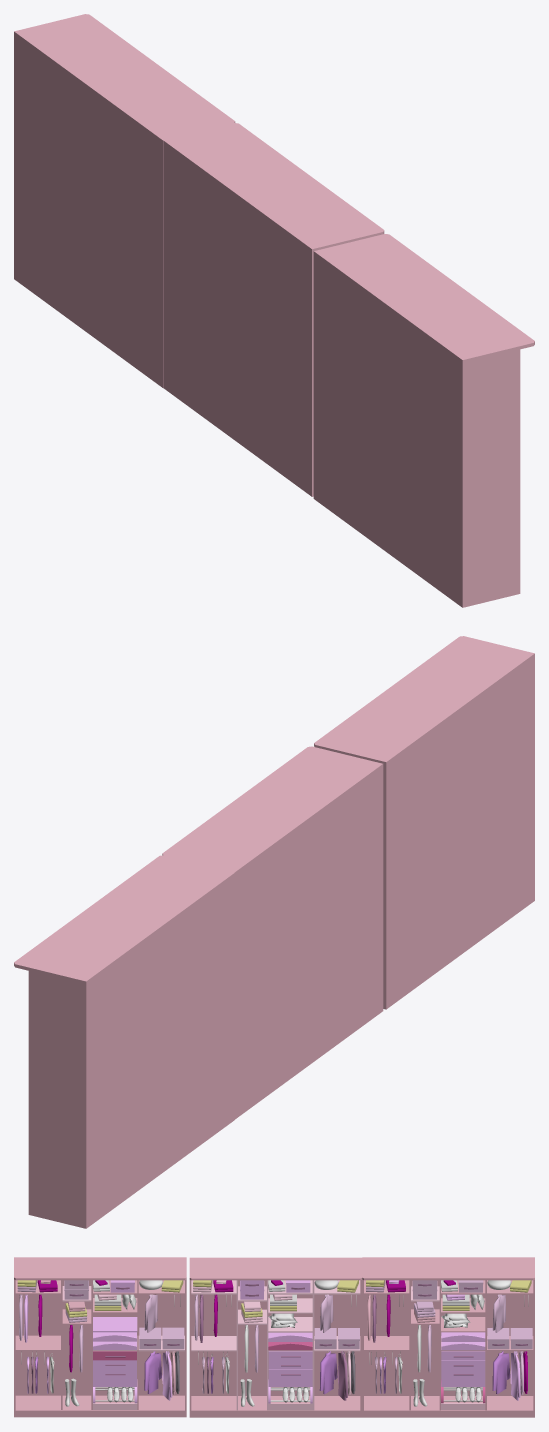
Rendered from aarmario Barbie.fbx.
3 views of the same model, one above another, from view 1: azimuth 30°, elevation 25°; view 2: azimuth 150°, elevation 25°; view 3: azimuth 270°, elevation 25° (orthographic). The views are drawn at different scales.
Parts seen in each view (by area): view 1: polySurface644, polySurface519, polySurface394; view 2: polySurface394, polySurface644, polySurface519; view 3: polySurface644, polySurface519, polySurface394, polySurface469, polySurface594, polySurface719, polySurface642, polySurface637, polySurface392, polySurface517, polySurface752, polySurface502 (+72 smaller).
Part boxes in pixels (x1,y1,x2,y2): polySurface644: (313, 234, 534, 607); polySurface519: (163, 123, 384, 496); polySurface394: (14, 14, 235, 387); polySurface394: (14, 855, 234, 1228); polySurface644: (314, 636, 534, 1009); polySurface519: (162, 746, 383, 1119); polySurface644: (14, 1257, 186, 1417); polySurface519: (189, 1257, 362, 1417); polySurface394: (362, 1257, 534, 1417); polySurface469: (441, 1369, 485, 1386); polySurface594: (268, 1369, 312, 1386); polySurface719: (93, 1369, 136, 1386); polySurface642: (15, 1335, 60, 1351); polySurface637: (93, 1317, 137, 1332); polySurface392: (364, 1336, 409, 1351); polySurface517: (191, 1336, 236, 1351); polySurface752: (144, 1351, 161, 1393); polySurface502: (492, 1351, 510, 1394).
Bounding box in the file's own units: 0.7876 × 2.5 × 8.21.
